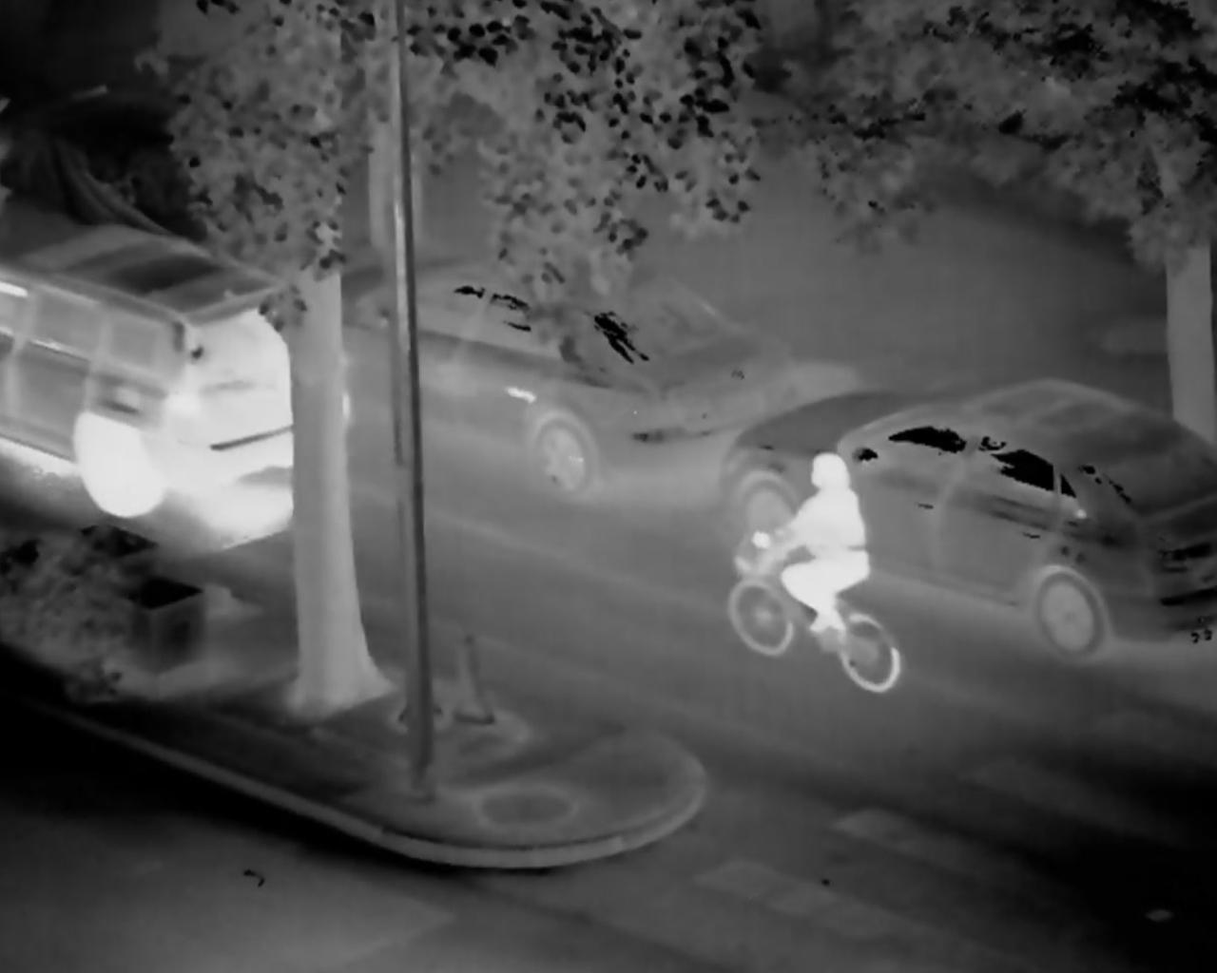person: (747, 448, 871, 650)
